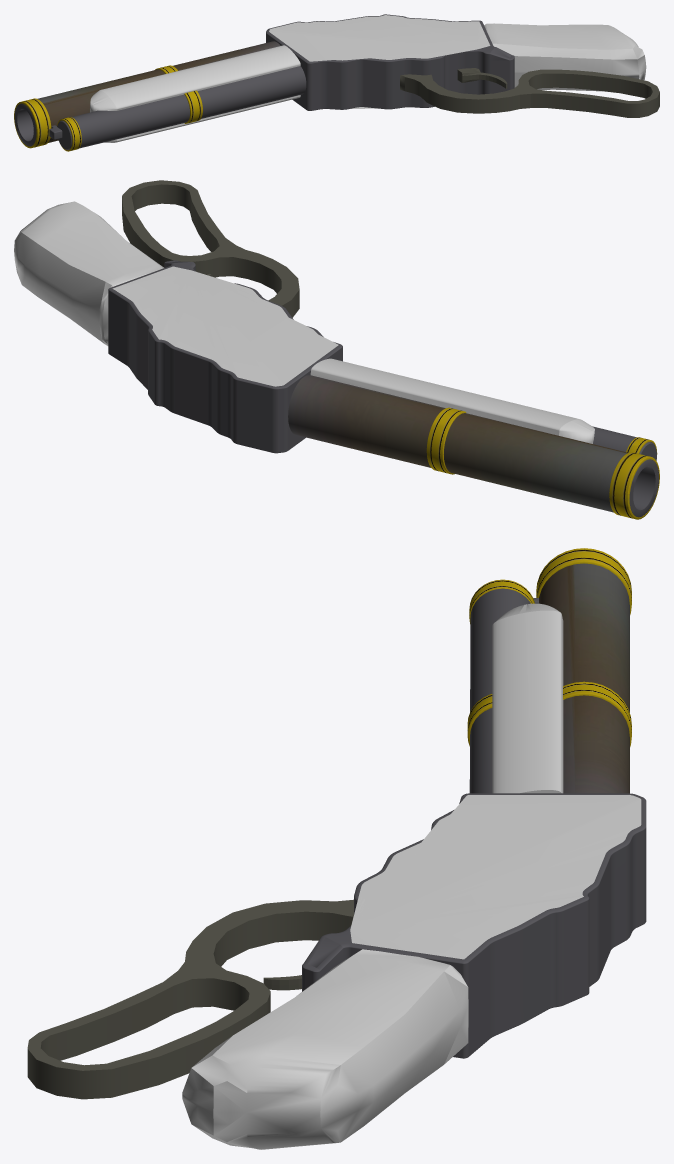
3 views of the same model, one above another, from view 1: azimuth 30°, elevation 25°; view 2: azimuth 150°, elevation 25°; view 3: azimuth 270°, elevation 25° (orthographic). The views are drawn at different scales.
Parts seen in each view (by area): view 1: Gun_3, Gun_5, Gun_4, Gun_1, Gun_2, Gun_1.001, Gun_1_2.004, Gun_6, Gun_1_2.002, Gun_1_2.001; view 2: Gun_3, Gun_1.001, Gun_4, Gun_5, Gun_2, Gun_1_2.004, Gun_1_2.003, Gun_1; view 3: Gun_3, Gun_4, Gun_5, Gun_1.001, Gun_2, Gun_1, Gun_1_2.004, Gun_1_2.003.
Part boxes in pixels (bbox=[...]): Gun_3: bbox=[266, 14, 514, 110]; Gun_5: bbox=[400, 69, 659, 117]; Gun_4: bbox=[484, 23, 646, 91]; Gun_1: bbox=[49, 66, 306, 149]; Gun_2: bbox=[90, 45, 300, 142]; Gun_1.001: bbox=[14, 41, 280, 146]; Gun_1_2.004: bbox=[14, 98, 51, 148]; Gun_6: bbox=[457, 68, 507, 88]; Gun_1_2.002: bbox=[184, 90, 202, 123]; Gun_1_2.001: bbox=[57, 117, 81, 151]; Gun_3: bbox=[108, 260, 342, 453]; Gun_1.001: bbox=[288, 375, 658, 517]; Gun_4: bbox=[14, 201, 163, 345]; Gun_5: bbox=[122, 180, 299, 317]; Gun_2: bbox=[310, 358, 594, 443]; Gun_1_2.004: bbox=[609, 452, 659, 519]; Gun_1_2.003: bbox=[426, 407, 466, 474]; Gun_1: bbox=[435, 418, 656, 460]; Gun_3: bbox=[302, 793, 646, 1058]; Gun_4: bbox=[182, 949, 468, 1149]; Gun_5: bbox=[27, 899, 353, 1099]; Gun_1.001: bbox=[539, 563, 629, 793]; Gun_2: bbox=[492, 603, 563, 793]; Gun_1: bbox=[469, 588, 610, 793]; Gun_1_2.004: bbox=[536, 548, 631, 614]; Gun_1_2.003: bbox=[563, 681, 631, 746].
Bounding box in the file's own units: 296 × 26.52 × 149.
